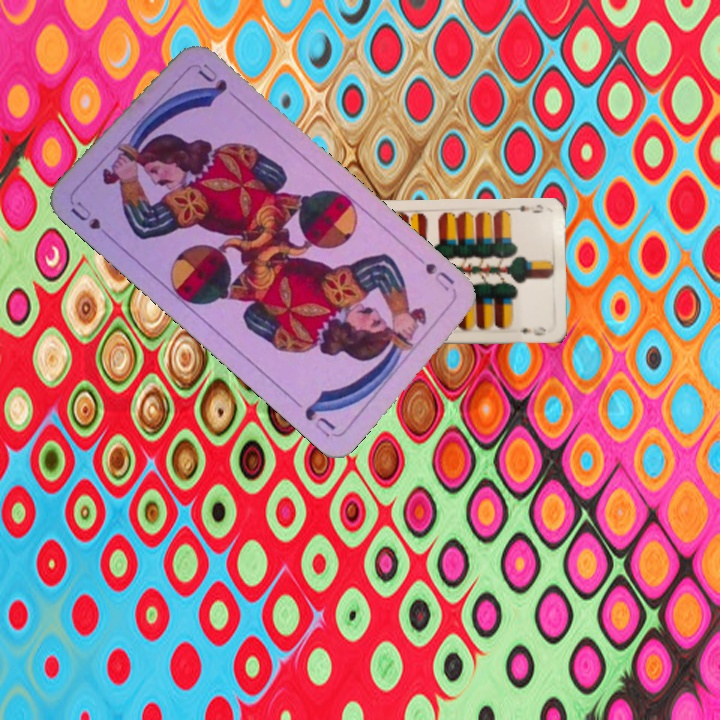E9: (510, 201, 545, 215)
SU: (67, 196, 117, 244), (421, 259, 457, 294)
